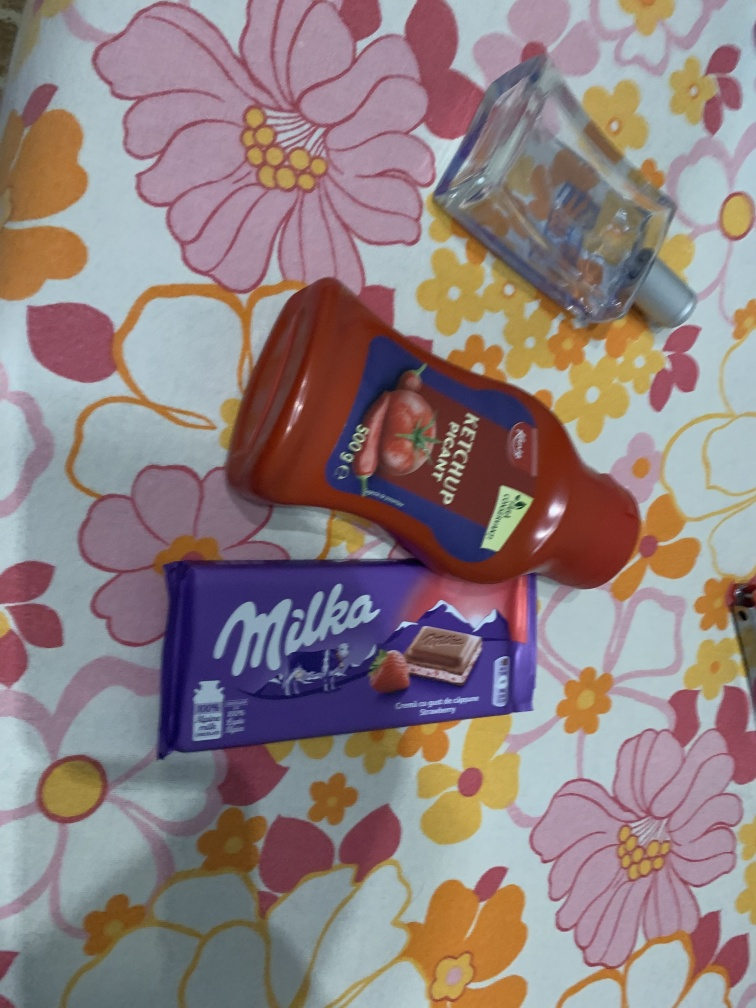ketchup: (220, 277, 643, 590)
milka: (143, 559, 558, 761)
